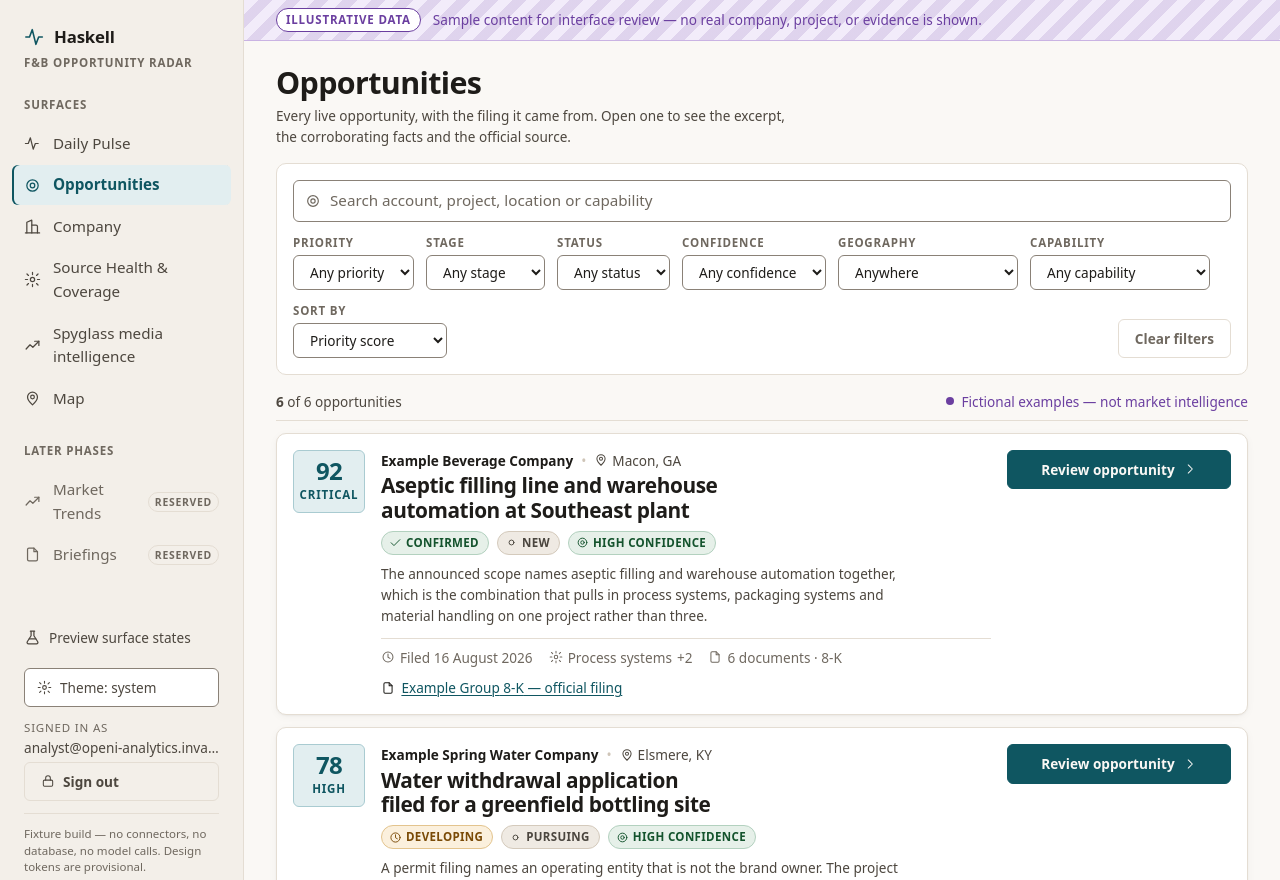
Scenario: drawer to full page › navigates from the drawer to the full page
expect the element that starts with "Critical" is shown: met, box [276, 433, 1248, 715]
Click the button "Review opportunity" in the row of "Macon, GA". click: {"x": 1119, "y": 469}
box: [1007, 450, 1231, 489]
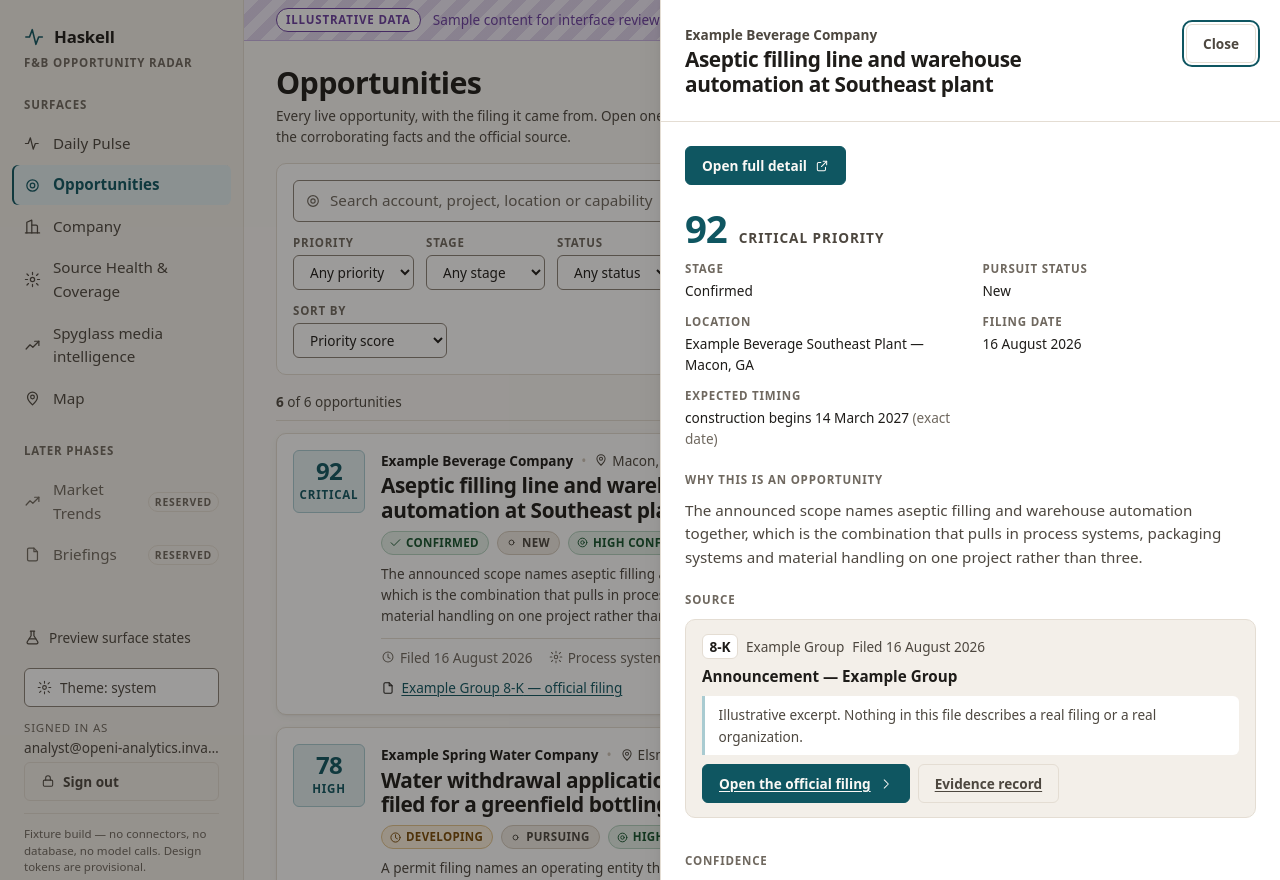
Click the link "Open full detail". click: {"x": 766, "y": 166}
box: [685, 146, 846, 185]
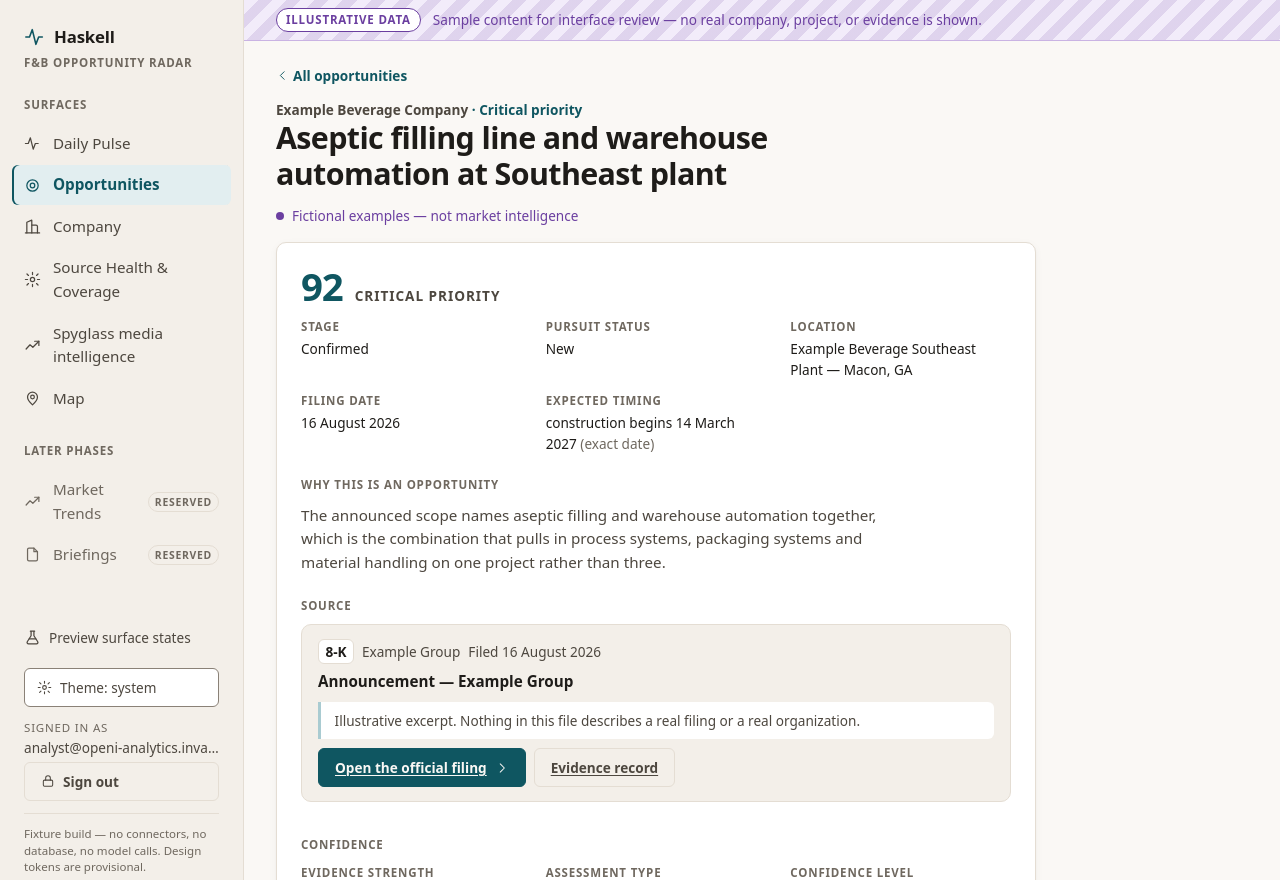
expect the heading "Aseptic filling line and warehouse automation at Southeast plant" is shown: met, box [276, 120, 832, 193]
